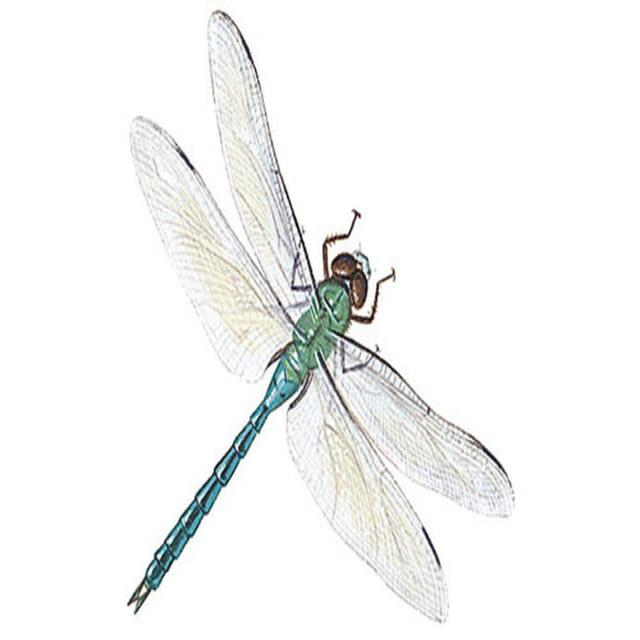dragonfly: (129, 10, 514, 622)
